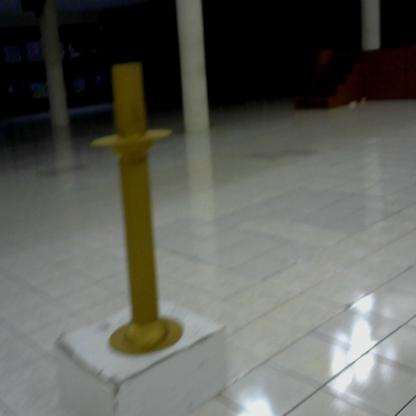pole: (83, 56, 194, 372)
